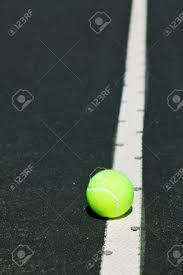tennis_ball: (87, 168, 133, 220)
